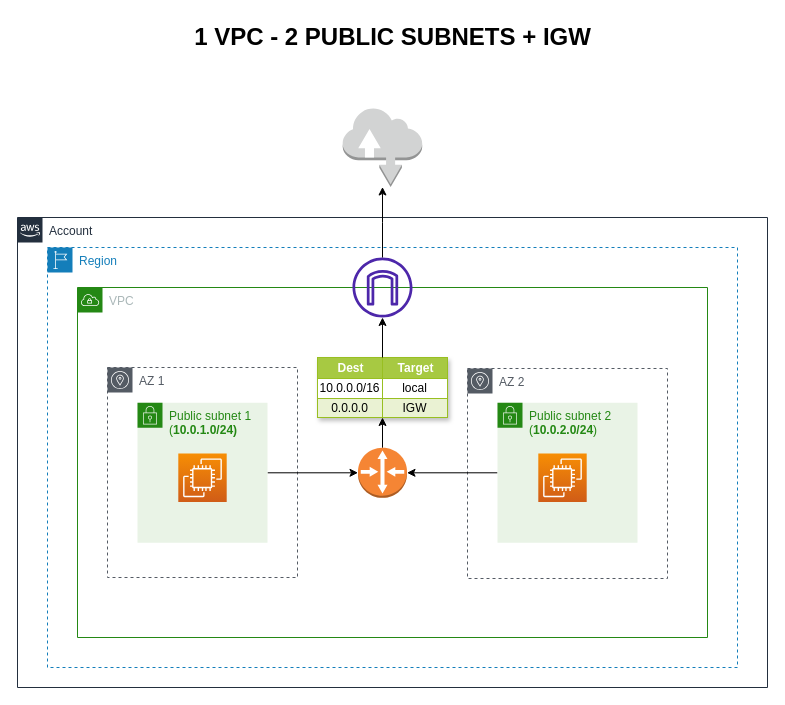
The diagram is 785 pixels wide and 705 high, and some of its shapes have lost their labels. Here are the shapes that lost their labels. From the top down, the centre of each, then its label:
(382,287): Internet GW
(382,472): Router Tables
